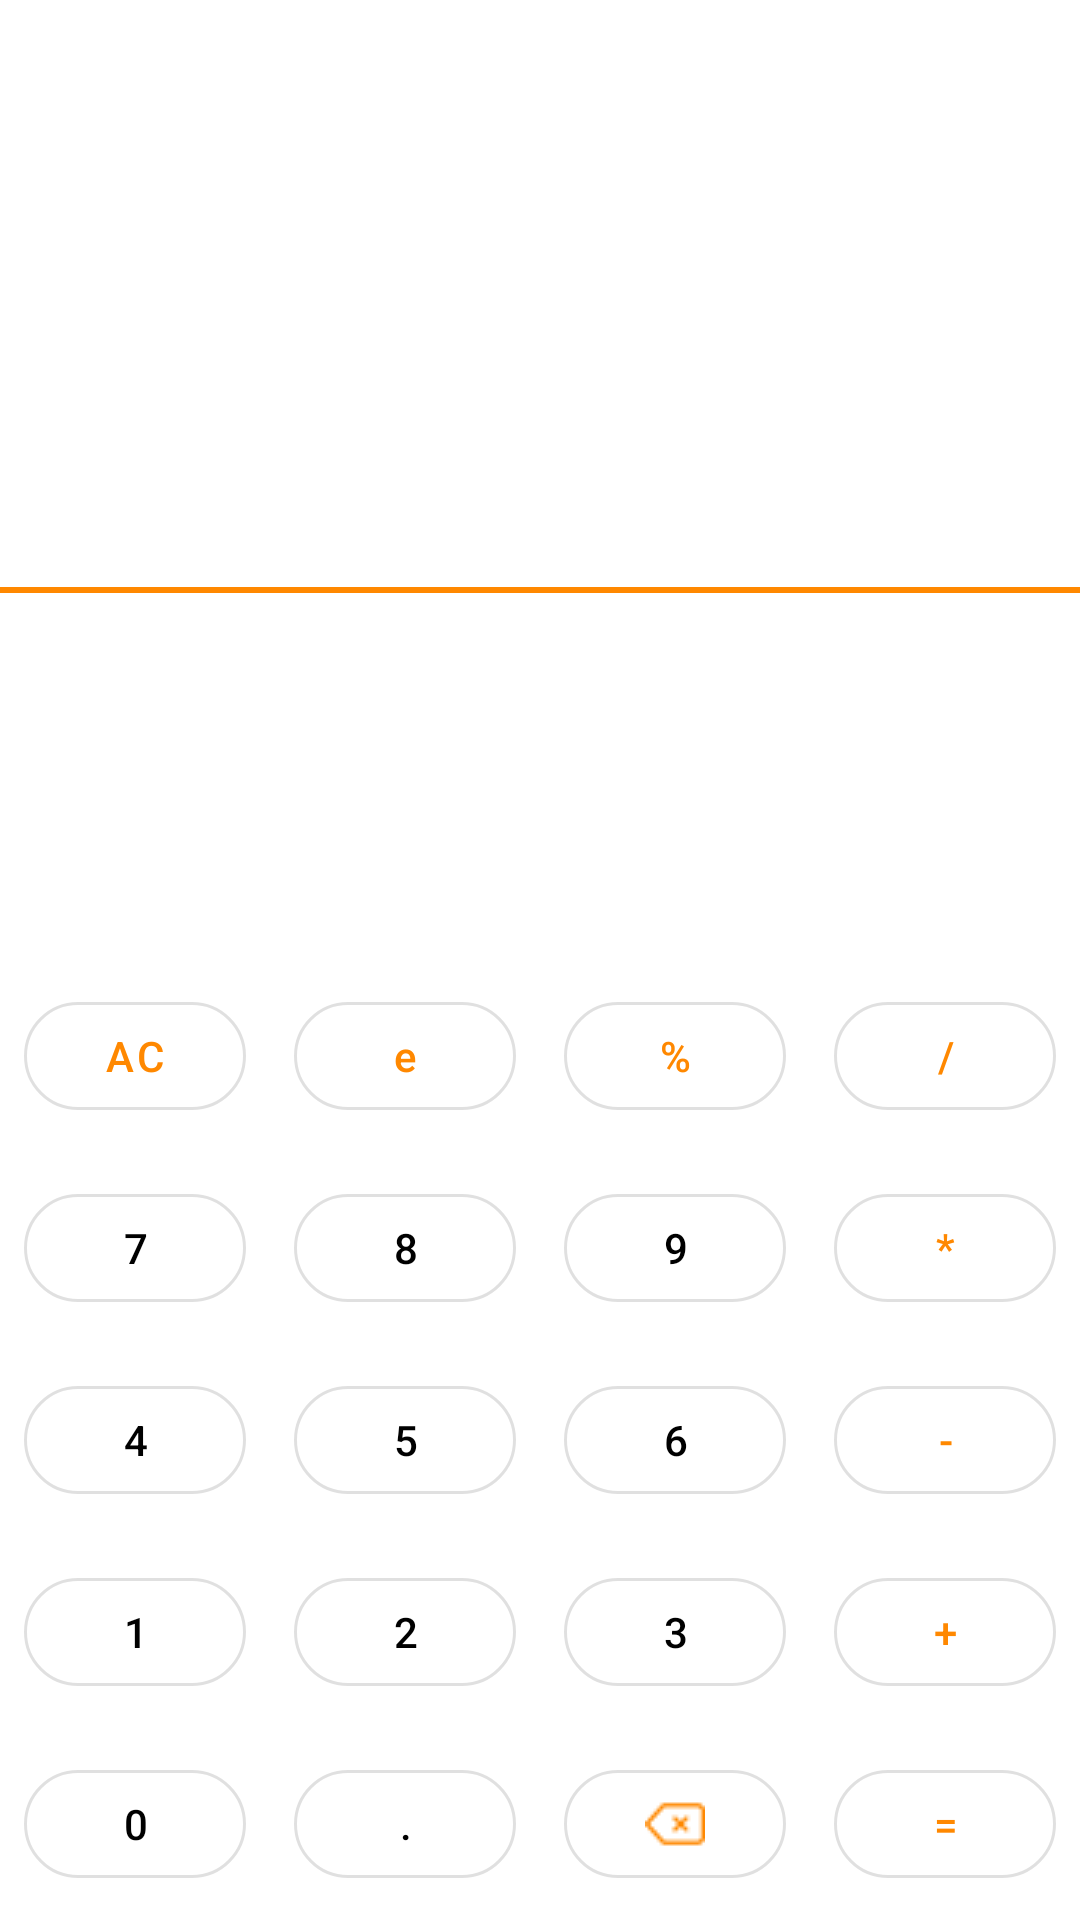

Point at icon controls on the screen. Image size 1080 x 1920, points as (x,y).
backspace: (675,1824)
